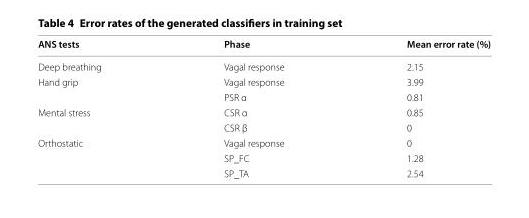table: (37, 37, 490, 178)
table column: (161, 37, 344, 178), (344, 37, 490, 178), (37, 37, 161, 178)
table column header: (37, 37, 490, 54)
table row: (37, 54, 490, 73), (37, 37, 490, 54), (37, 73, 490, 89), (37, 134, 490, 150), (37, 89, 490, 104), (37, 104, 490, 119), (37, 119, 490, 134), (37, 150, 490, 165), (37, 165, 490, 178)
table spanning cell: (37, 134, 161, 178), (37, 73, 161, 104), (37, 104, 161, 134)
